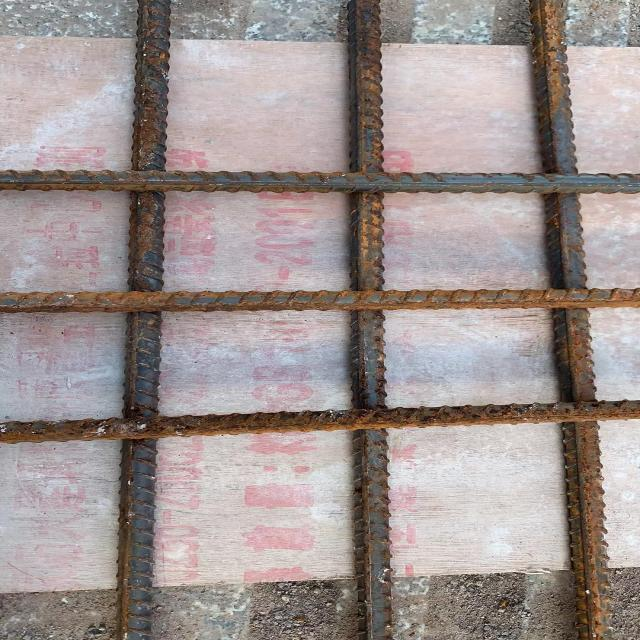ribbed bar: (533, 0, 610, 639), (110, 0, 170, 639), (0, 399, 639, 445), (347, 0, 393, 639), (0, 285, 639, 313), (0, 170, 639, 194)
